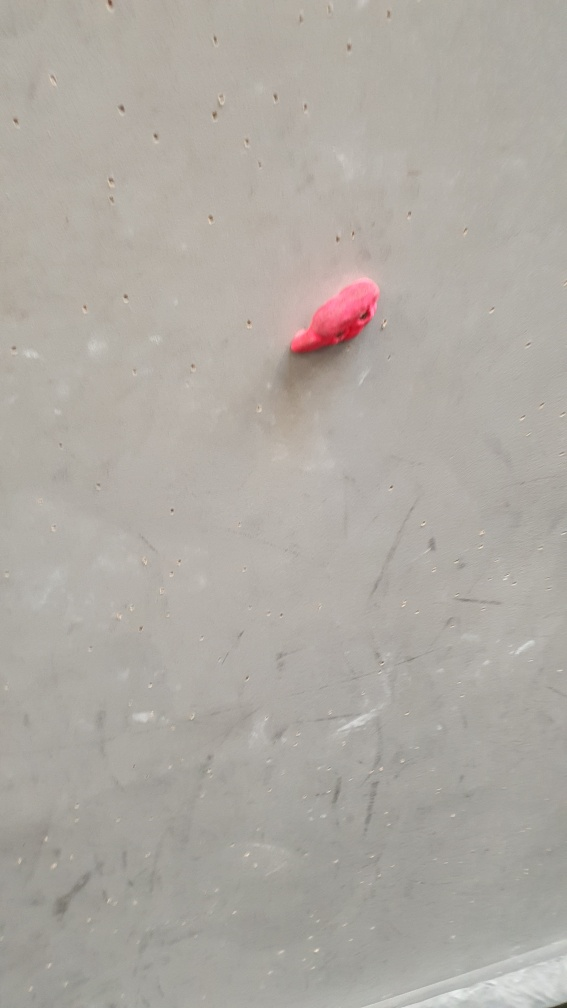Jug: (289, 274, 380, 357)
